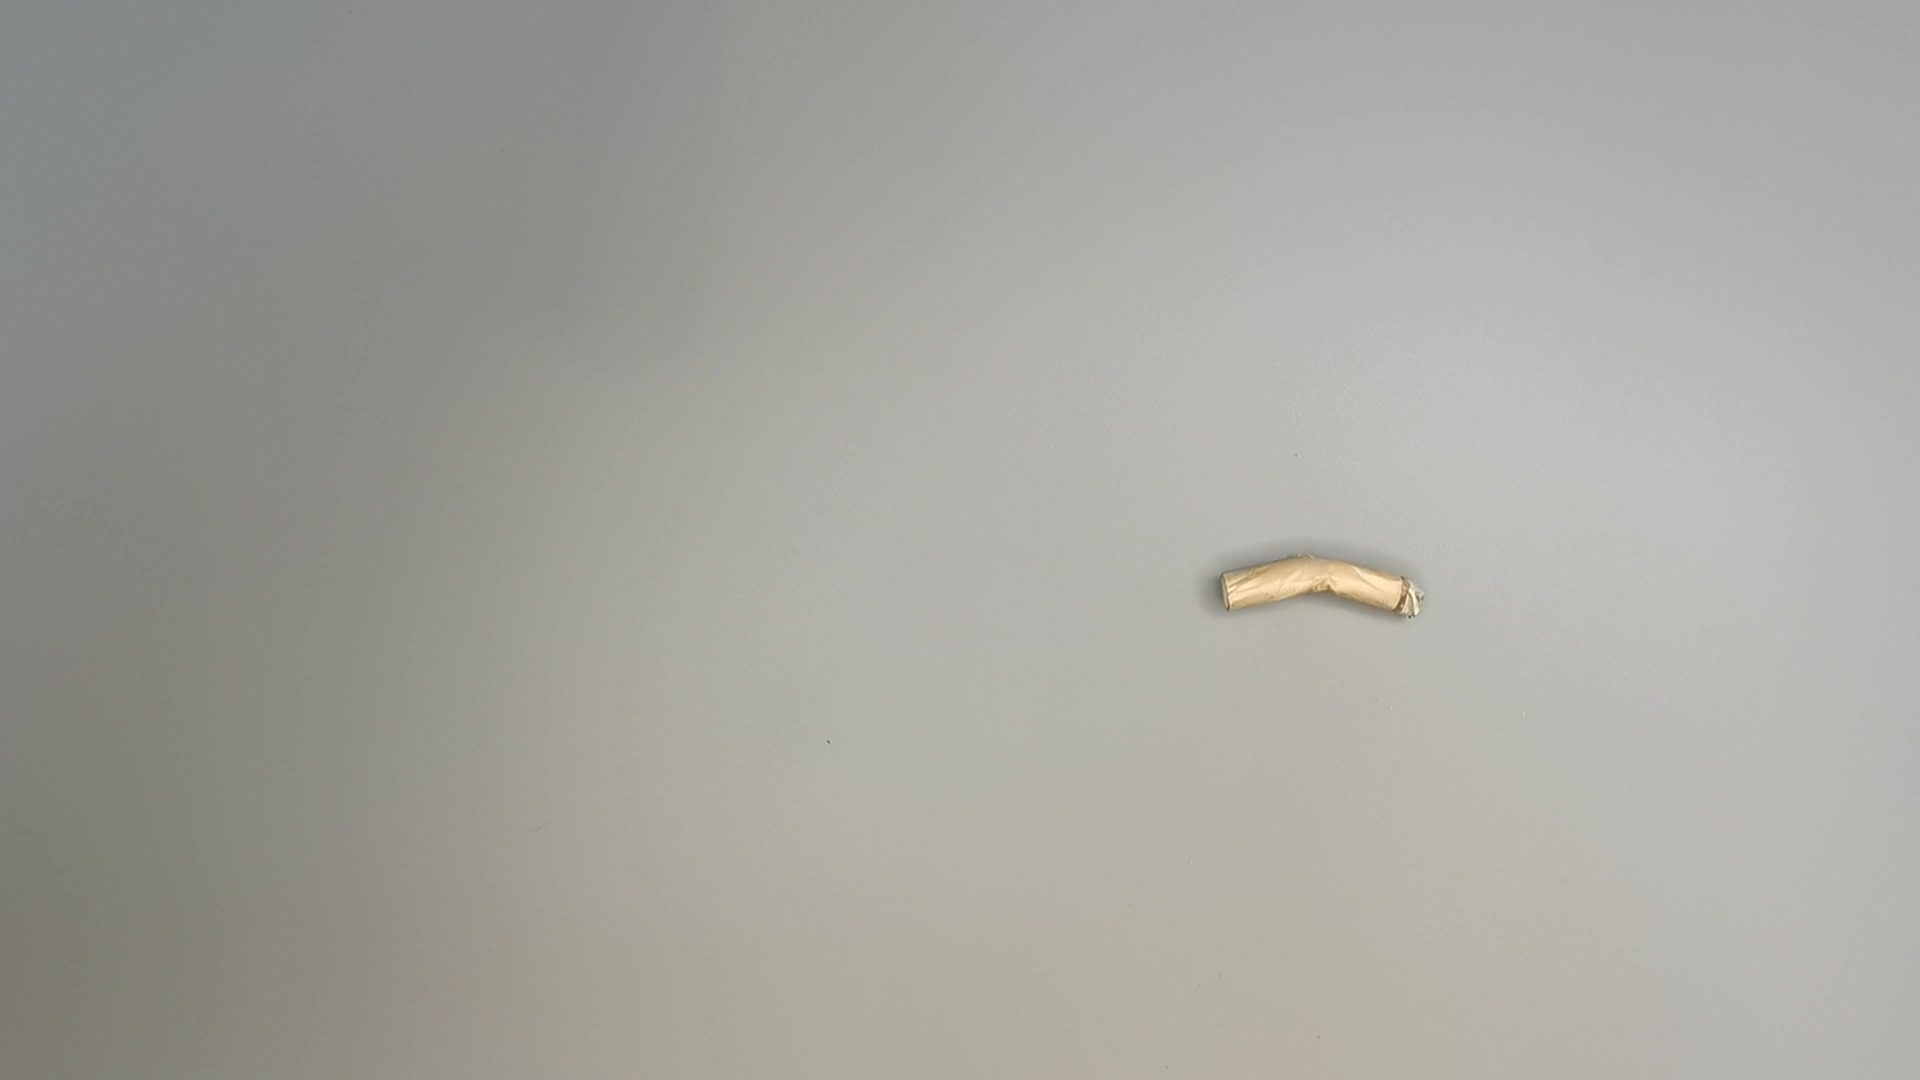cigarette: (1218, 546, 1433, 636)
